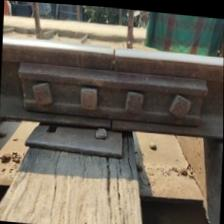person: (84, 31, 142, 86), (89, 101, 132, 141)
